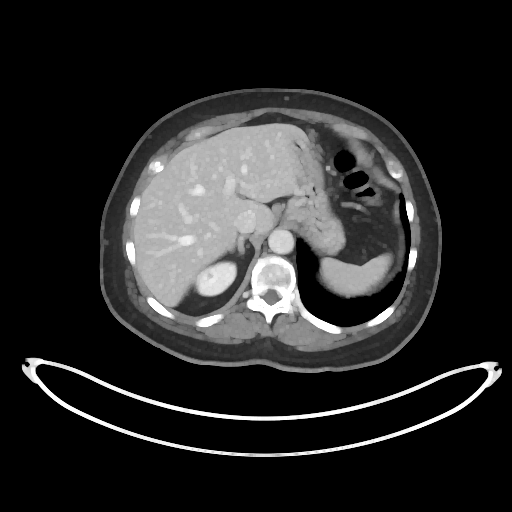Lesion: (201, 271, 215, 279)
